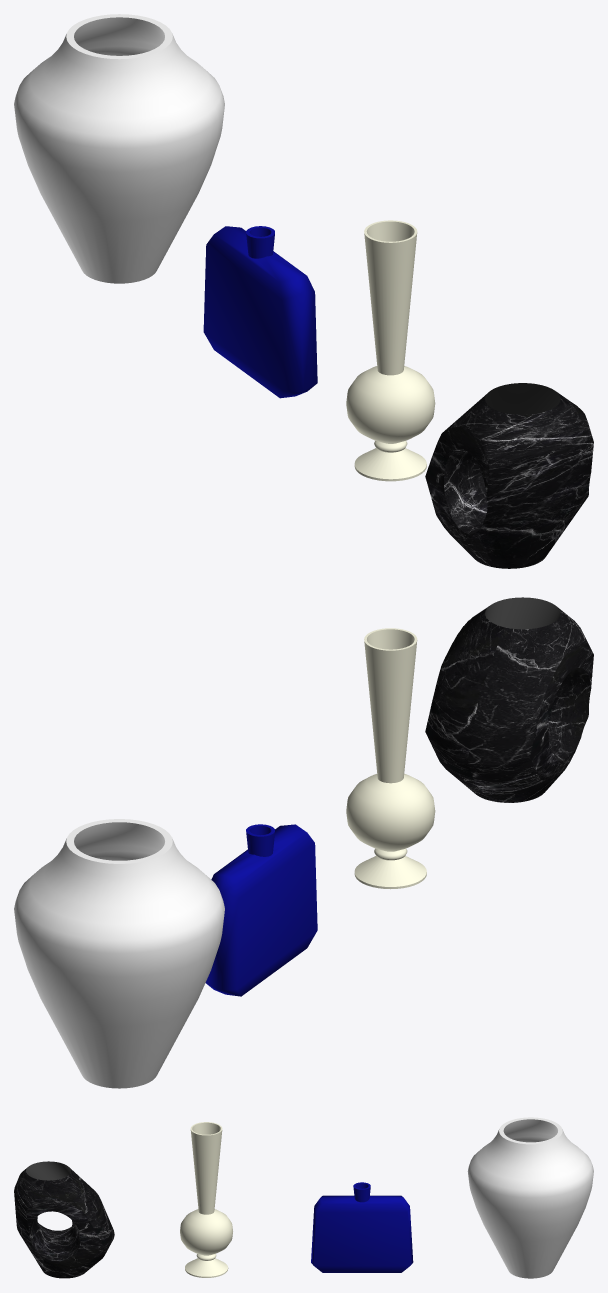
The model's file is vase.fbx.
3 renders of one model, top to bottom at view 1: azimuth 30°, elevation 25°; view 2: azimuth 150°, elevation 25°; view 3: azimuth 270°, elevation 25°, orthographic. The views are drawn at different scales.
Parts seen in each view (by area): view 1: Cylinder007, Cylinder002, Box003, Cylinder001; view 2: Cylinder007, Cylinder002, Cylinder001, Box003; view 3: Cylinder007, Cylinder002, Box003, Cylinder001.
Part boxes in pixels (x1=…): Cylinder007: x1=14, y1=14, x2=224, y2=283; Cylinder002: x1=425, y1=383, x2=593, y2=568; Box003: x1=203, y1=226, x2=317, y2=398; Cylinder001: x1=346, y1=220, x2=435, y2=481; Cylinder007: x1=14, y1=819, x2=224, y2=1088; Cylinder002: x1=425, y1=597, x2=593, y2=802; Cylinder001: x1=346, y1=628, x2=435, y2=889; Box003: x1=205, y1=824, x2=317, y2=996; Cylinder007: x1=467, y1=1117, x2=593, y2=1278; Cylinder002: x1=14, y1=1161, x2=114, y2=1278; Box003: x1=311, y1=1182, x2=413, y2=1272; Cylinder001: x1=180, y1=1122, x2=232, y2=1277.
Size of the model in its own units: 154 by 189 by 708.
5 materials, 1 textured.
